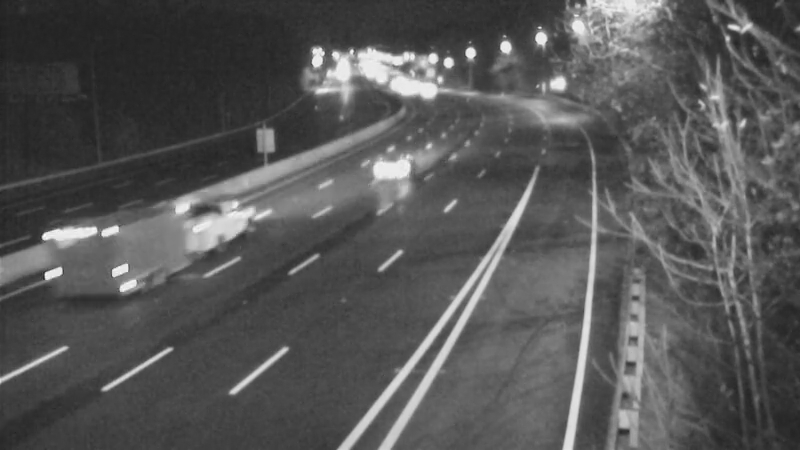vehicle: (357, 129, 437, 209), (118, 211, 198, 291), (406, 66, 456, 116)
